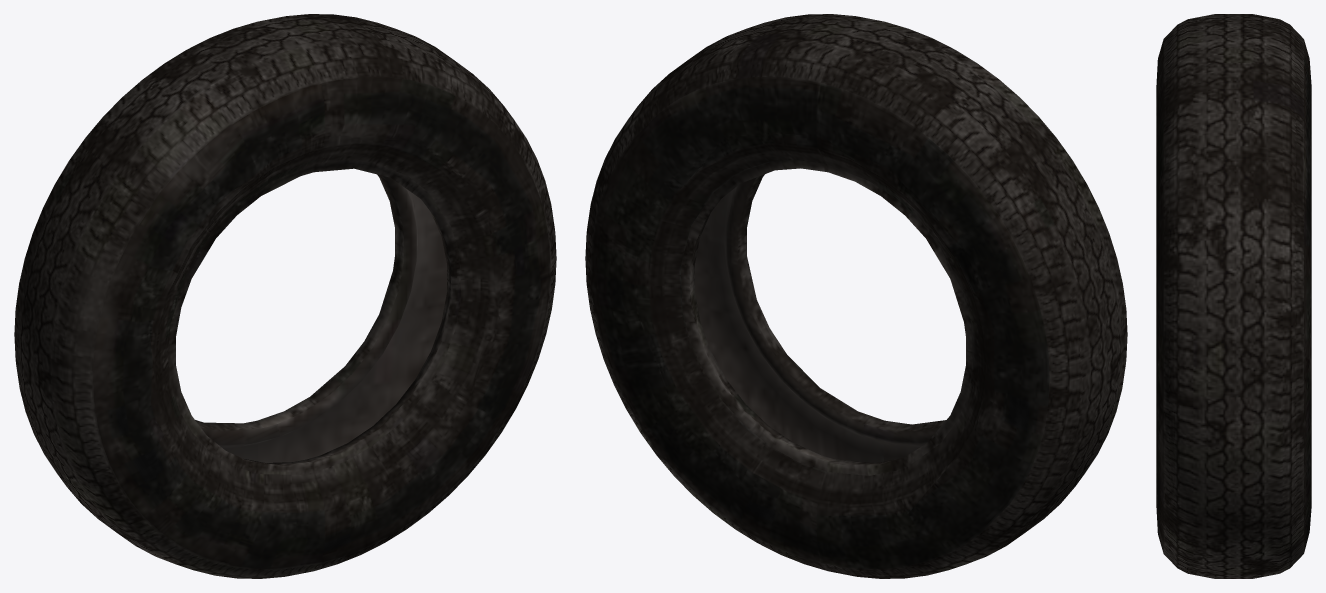
Rendered from old_tyre.glb.
3 views of the same model, side by side, from view 1: azimuth 30°, elevation 25°; view 2: azimuth 150°, elevation 25°; view 3: azimuth 270°, elevation 25° (orthographic). The views are drawn at different scales.
Visible parts, largest first — view 1: old_tyre; view 2: old_tyre; view 3: old_tyre.
Boxes of the visible parts, bbox=[...] form: old_tyre: bbox=[14, 14, 556, 578]; old_tyre: bbox=[585, 14, 1127, 578]; old_tyre: bbox=[1156, 14, 1311, 578].
Bounding box in the file's own units: 0.6 × 0.6 × 0.165.
Materials: 1 (1 with a texture image).
